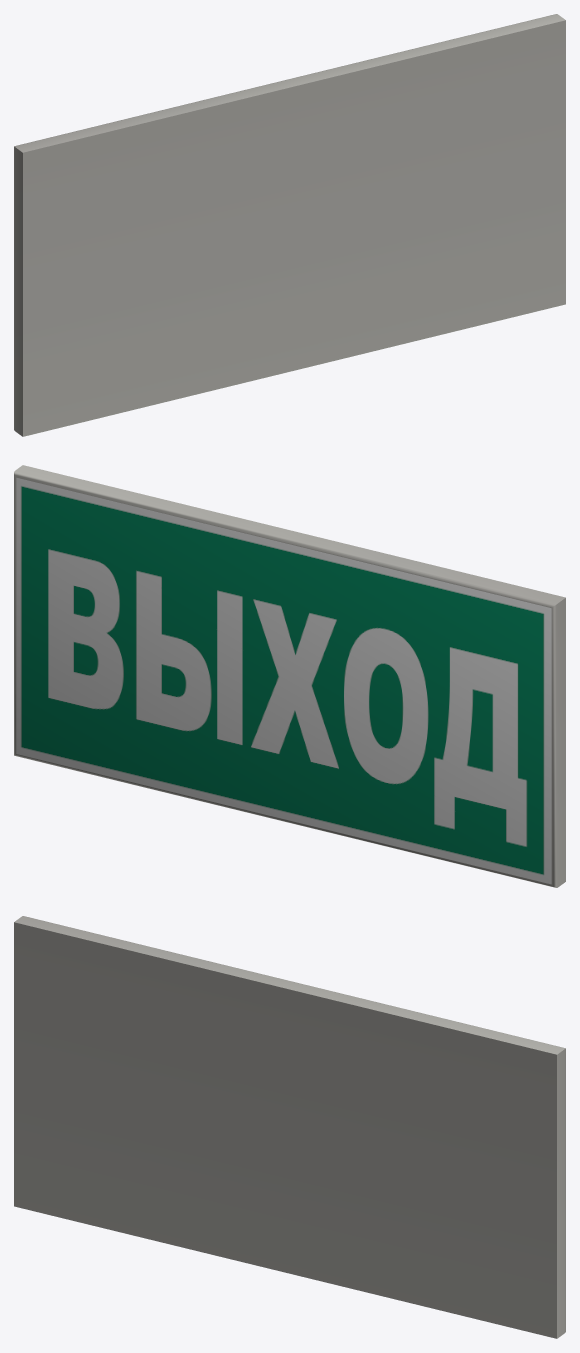
File: Табличка выход.fbx
3 views of the same model, one above another, from view 1: azimuth 30°, elevation 25°; view 2: azimuth 150°, elevation 25°; view 3: azimuth 330°, elevation 25° (orthographic).
Parts seen in each view (by area): view 1: Табличка выход; view 2: Табличка выход; view 3: Табличка выход.
Part boxes in pixels (x1=…): Табличка выход: x1=14, y1=14, x2=565, y2=436; Табличка выход: x1=14, y1=465, x2=565, y2=887; Табличка выход: x1=14, y1=916, x2=565, y2=1338.
Bounding box in the file's own units: 0.3 × 0.15 × 0.01.
Materials: 1 (1 with a texture image).
